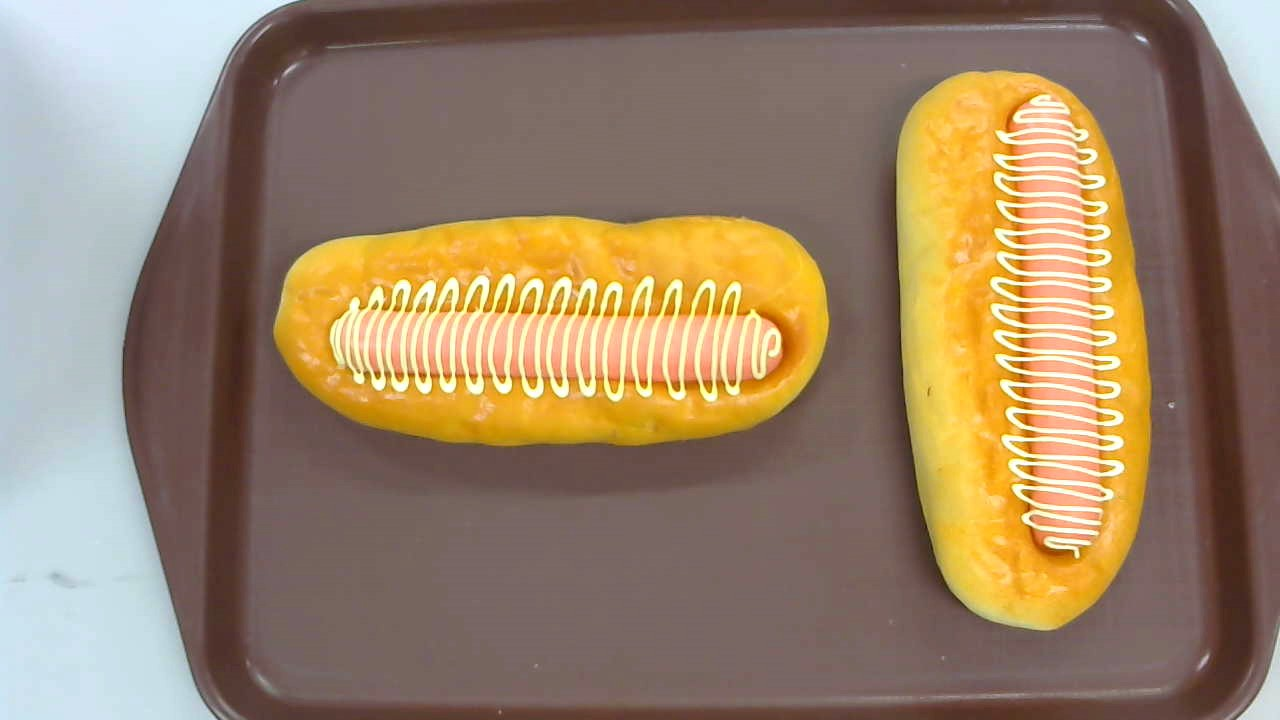hot dog: (895, 69, 1152, 632), (272, 213, 830, 448)
